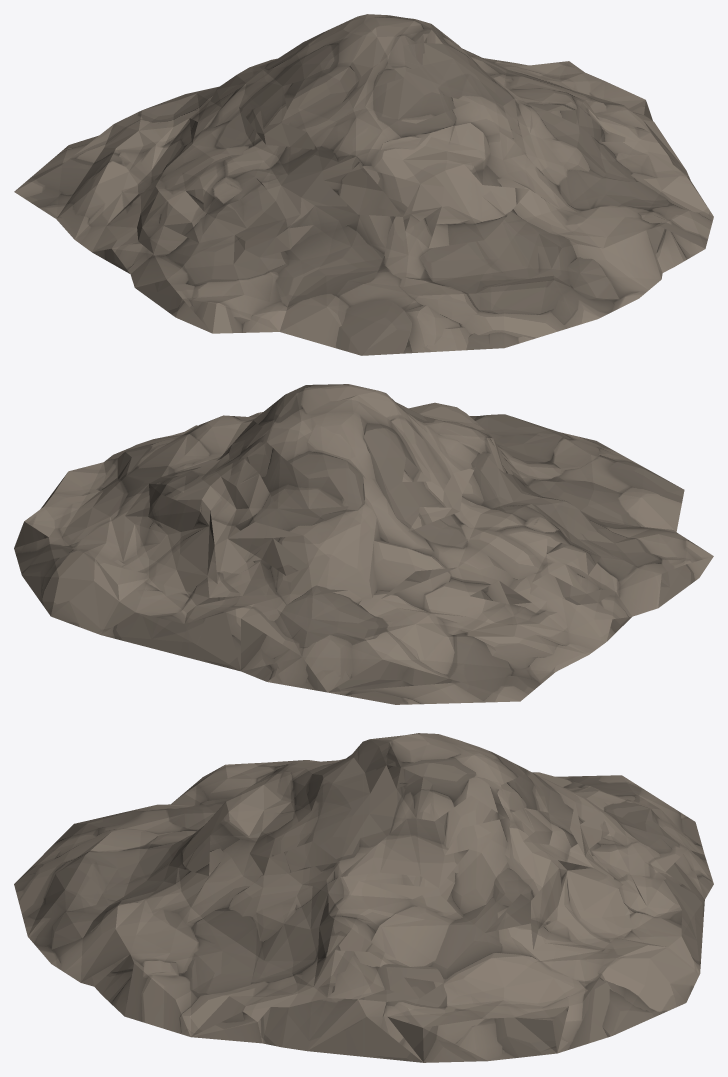
File: synty-terrain-mountain-03.gltf
3 views of the same model, one above another, from view 1: azimuth 30°, elevation 25°; view 2: azimuth 150°, elevation 25°; view 3: azimuth 270°, elevation 25° (orthographic). The views are drawn at different scales.
Visible parts, largest first — view 1: SM_Terrain_Mountain_03; view 2: SM_Terrain_Mountain_03; view 3: SM_Terrain_Mountain_03.
Part boxes in pixels (x1,y1,x2,y2): SM_Terrain_Mountain_03: (14,14,713,355); SM_Terrain_Mountain_03: (14,384,713,704); SM_Terrain_Mountain_03: (14,733,713,1062).
Size of the model in its own units: 39.22 by 11.23 by 39.77.
1 material, 1 textured.
